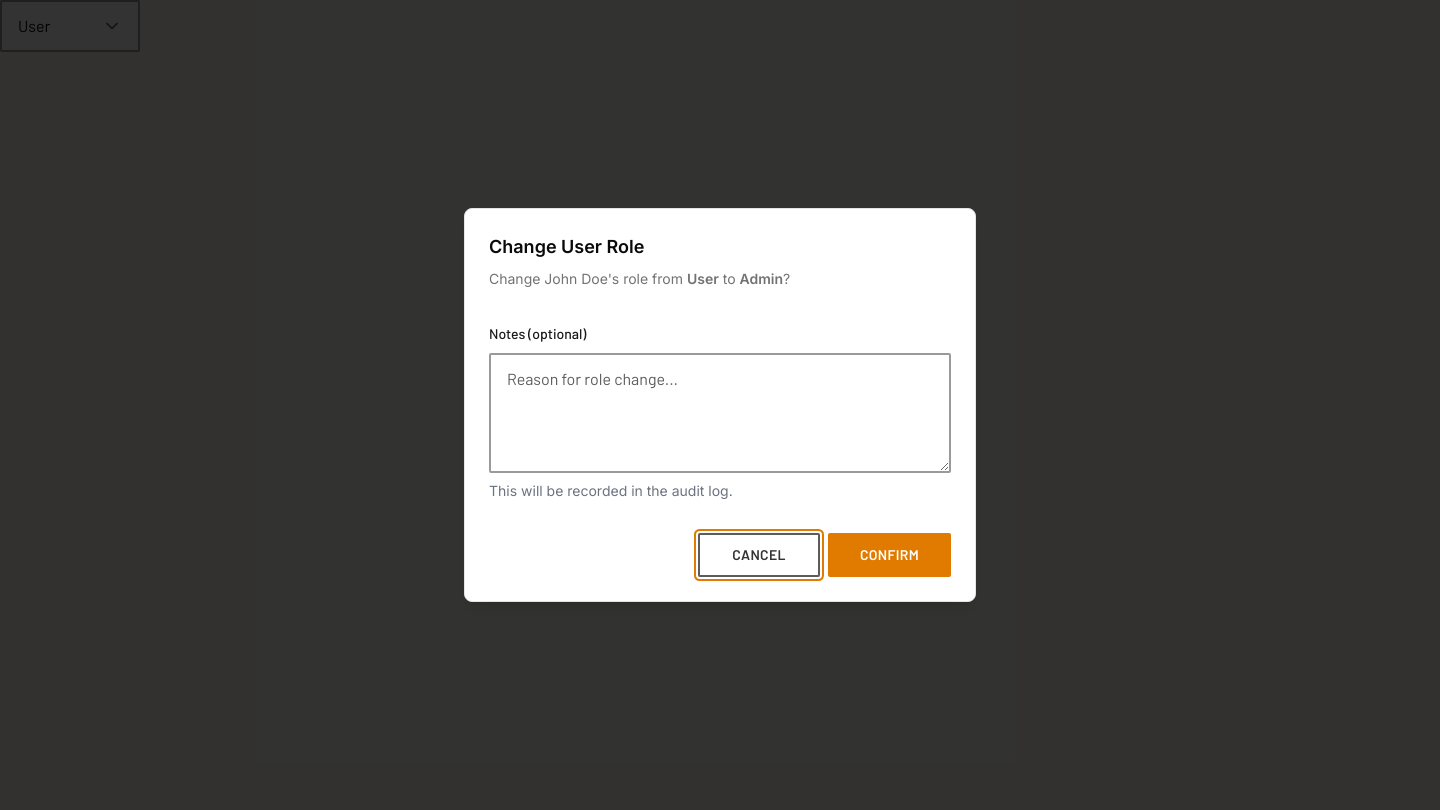
RoleChangeDropdown › does not call onRoleChange when cancelled
This screenshot has width=1440, height=810.
Earlier steps of the test are not shown.
Expected: the heading "Change User Role" is shown, [489,236,644,257]
Click the button "Cancel".
click(759, 555)  # box [698,533,820,577]
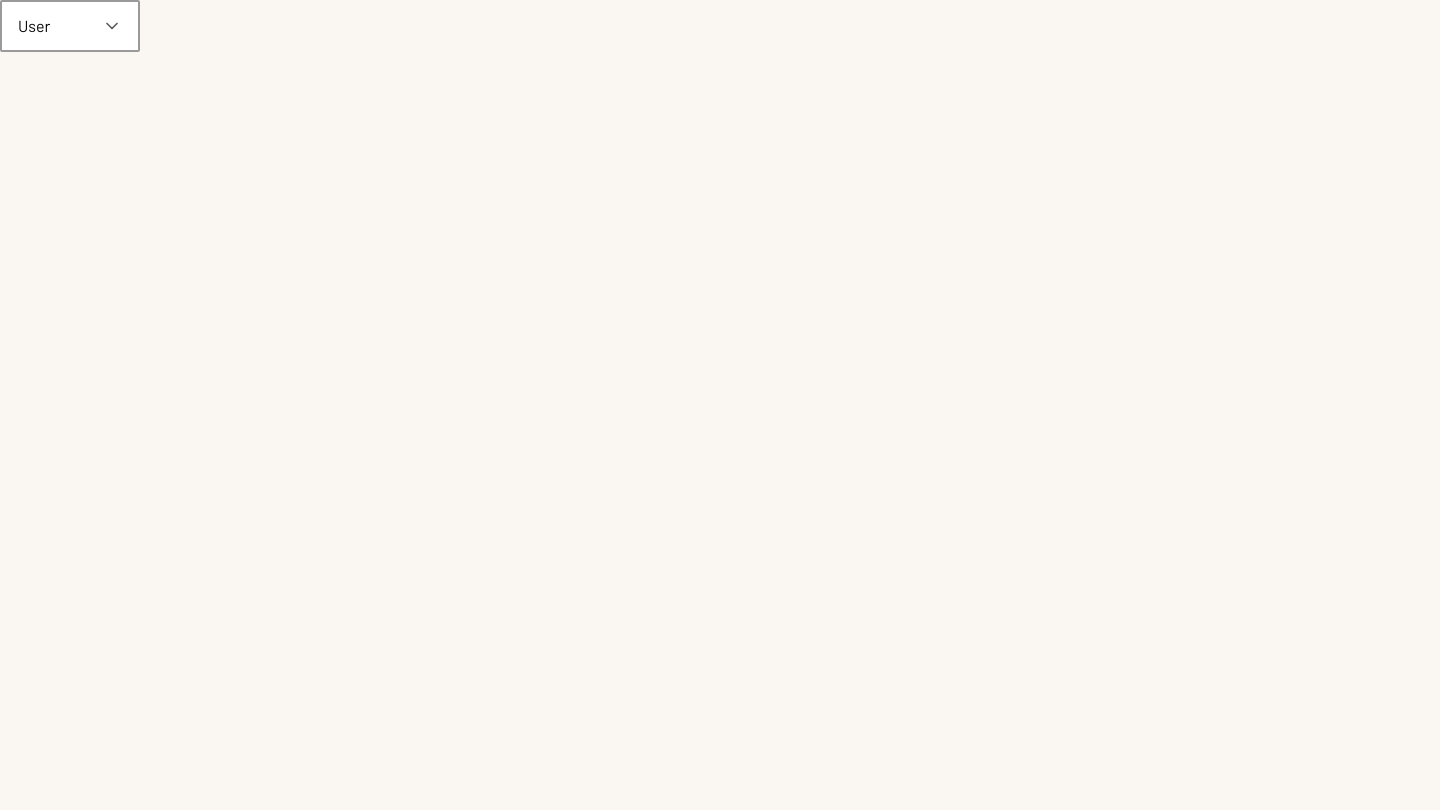
Expected: the heading "Change User Role" is gone
